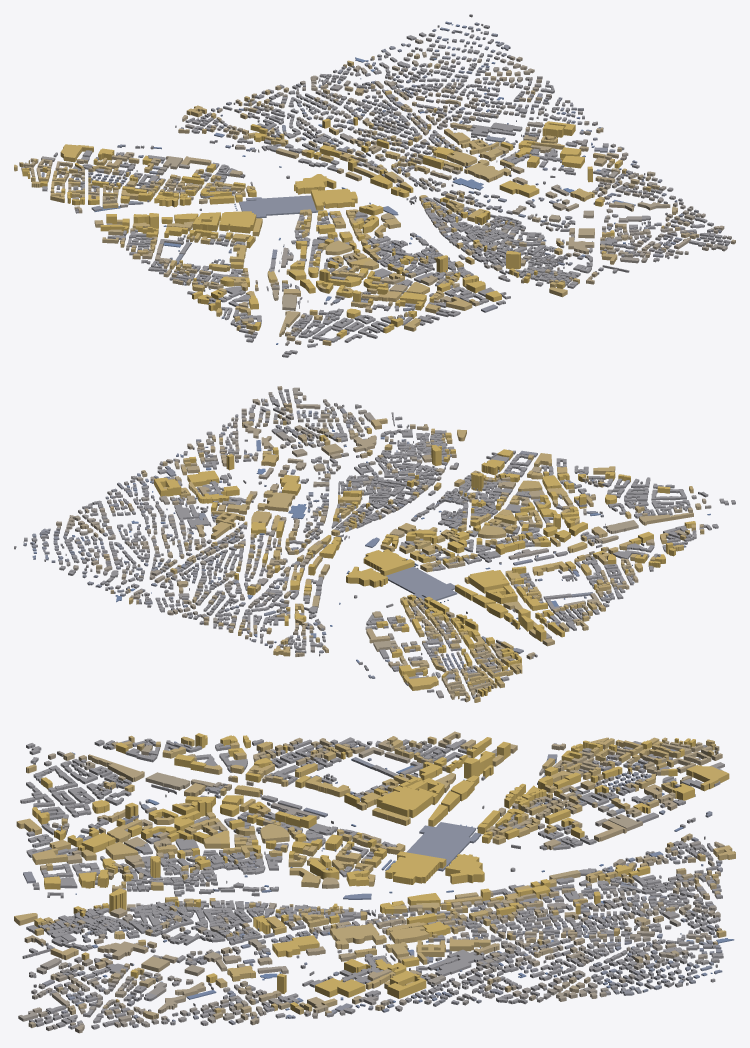
The model's file is buildings.glb.
The picture shows the model from 3 angles, top to bottom: view 1: azimuth 30°, elevation 25°; view 2: azimuth 150°, elevation 25°; view 3: azimuth 270°, elevation 25°; orthographic projection. The views are drawn at different scales.
Parts seen in each view (by area): view 1: buildings; view 2: buildings; view 3: buildings.
Part boxes in pixels (<box>): buildings: <box>14,14,735,357</box>; buildings: <box>14,386,735,702</box>; buildings: <box>14,731,735,1033</box>.
Size of the model in its own units: 2095 by 189 by 2114.
